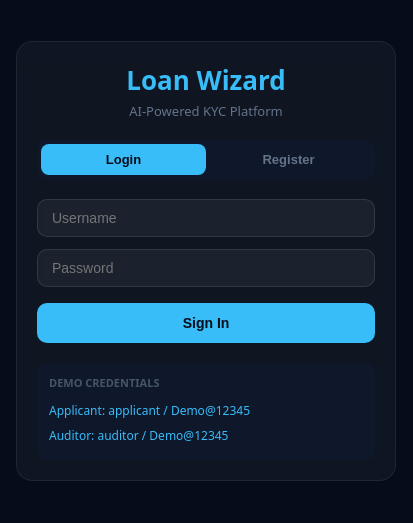
Test: switches to register mode when register tab clicked
The image size is (413, 523).
Click the button "register".
click(288, 160)  # box [206,144,371,175]
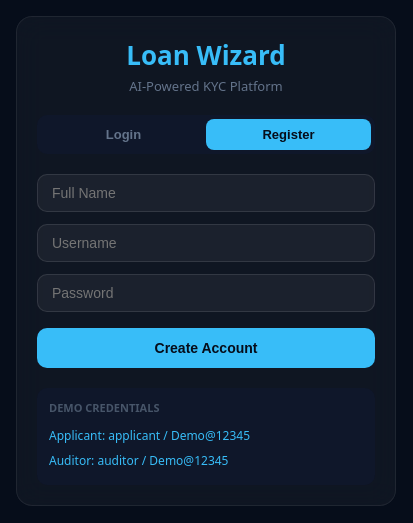
Now the field with placeholder "Full Name" is shown, box [37,174,375,212]
Now the button "Create Account" is shown, box [37,328,375,368]
